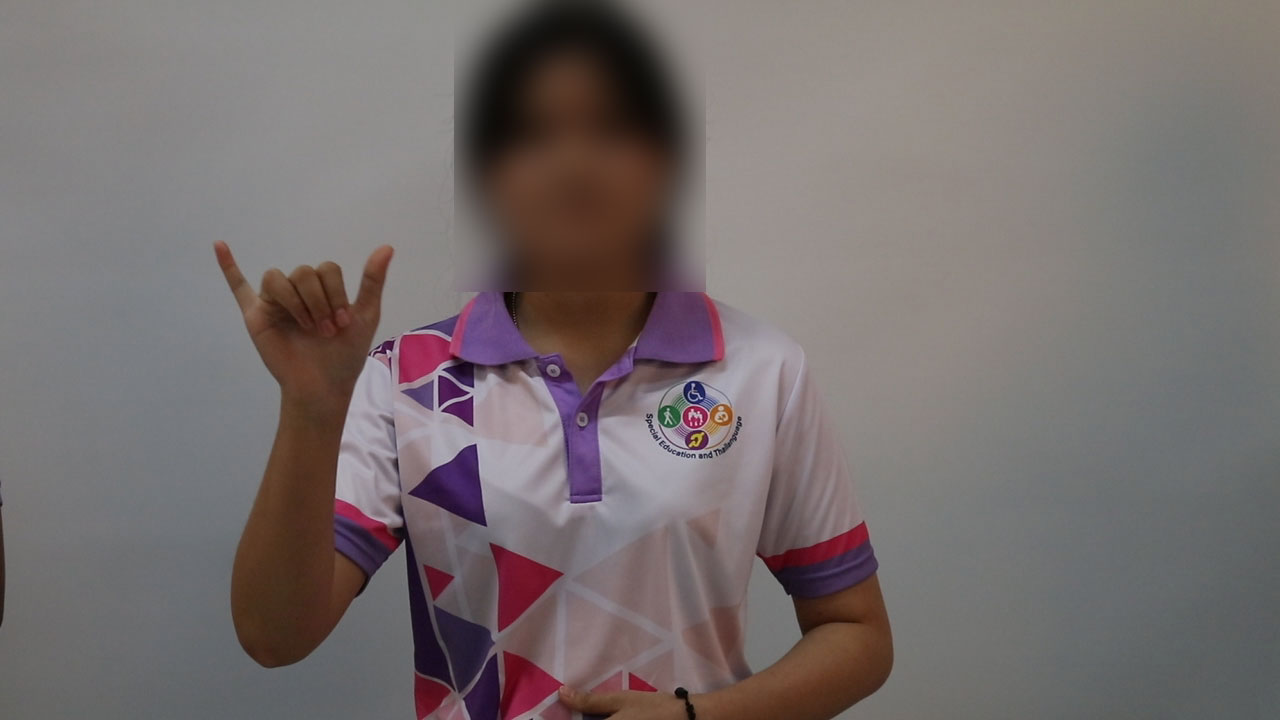yor: (184, 232, 422, 405)
